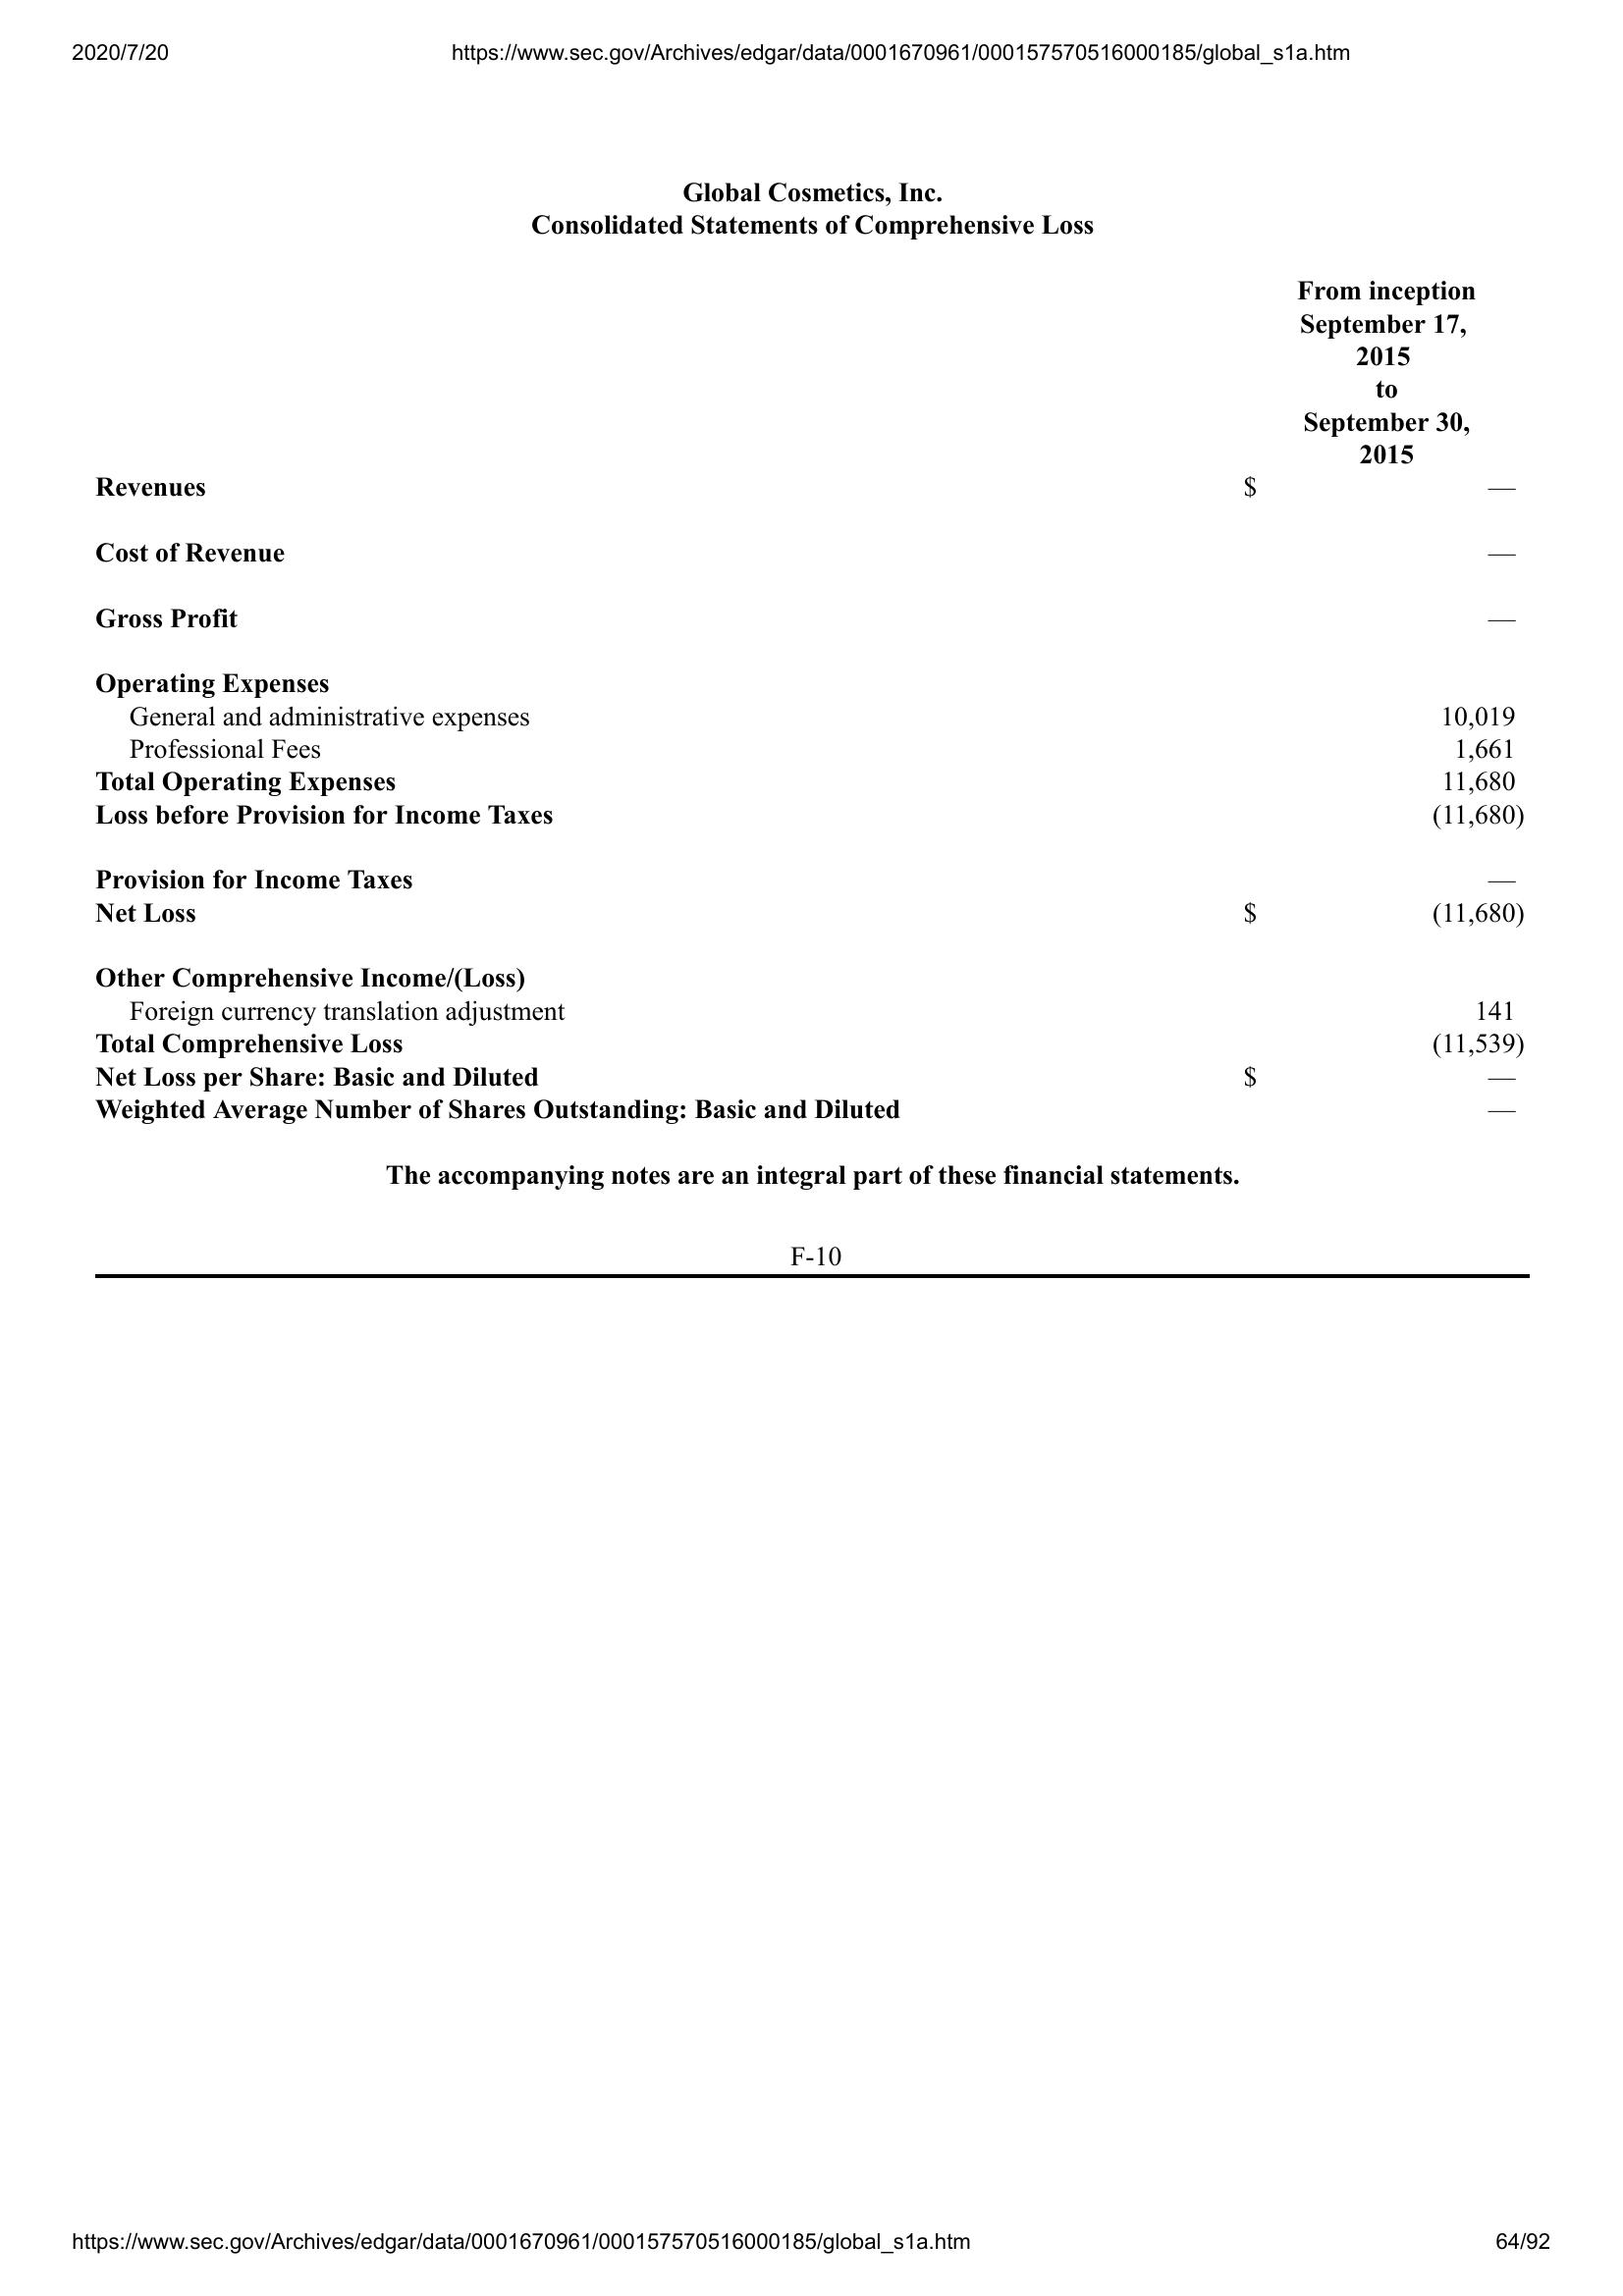table: (88, 270, 1537, 1122)
